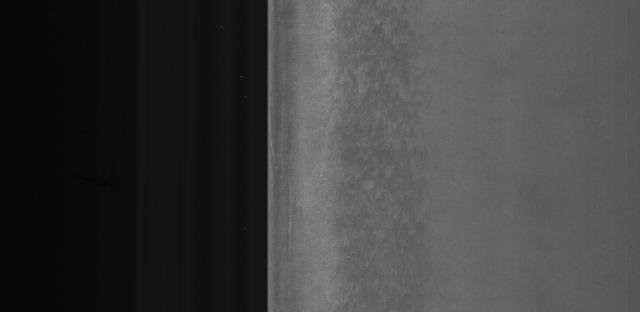silk_spot: (331, 13, 440, 287)
